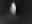person: (11, 3, 18, 18)
